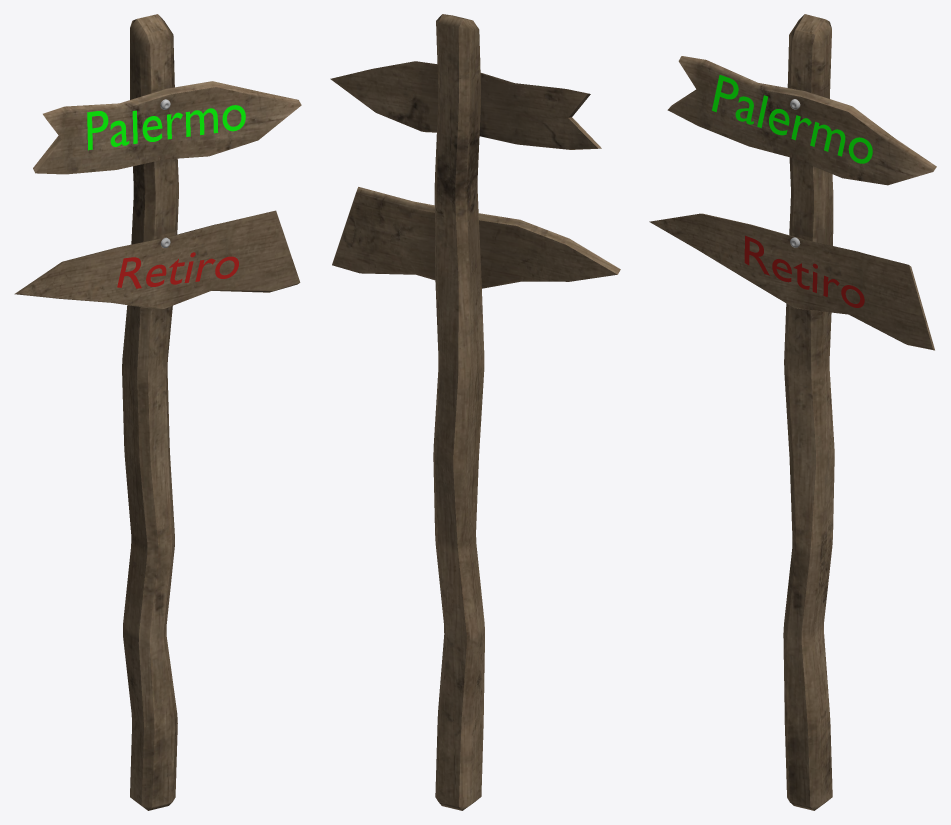
File: Indicador.fbx
The picture shows the model from 3 angles, left to right: view 1: azimuth 30°, elevation 25°; view 2: azimuth 150°, elevation 25°; view 3: azimuth 330°, elevation 25°; orthographic projection.
Visible parts, largest first — view 1: Waypointer_LOD0, Text_Palermo_LOD0, Text_Retiro_LOD0; view 2: Waypointer_LOD0; view 3: Waypointer_LOD0, Text_Palermo_LOD0, Text_Retiro_LOD0.
Boxes of the visible parts, <box> form: Waypointer_LOD0: <box>14,14,301,810</box>; Text_Palermo_LOD0: <box>87,105,245,150</box>; Text_Retiro_LOD0: <box>117,252,238,288</box>; Waypointer_LOD0: <box>330,14,620,810</box>; Waypointer_LOD0: <box>649,14,936,810</box>; Text_Palermo_LOD0: <box>712,75,872,163</box>; Text_Retiro_LOD0: <box>744,235,864,307</box>.
Size of what is drawn, in the model's own units: 75.64 by 199 by 15.07.
